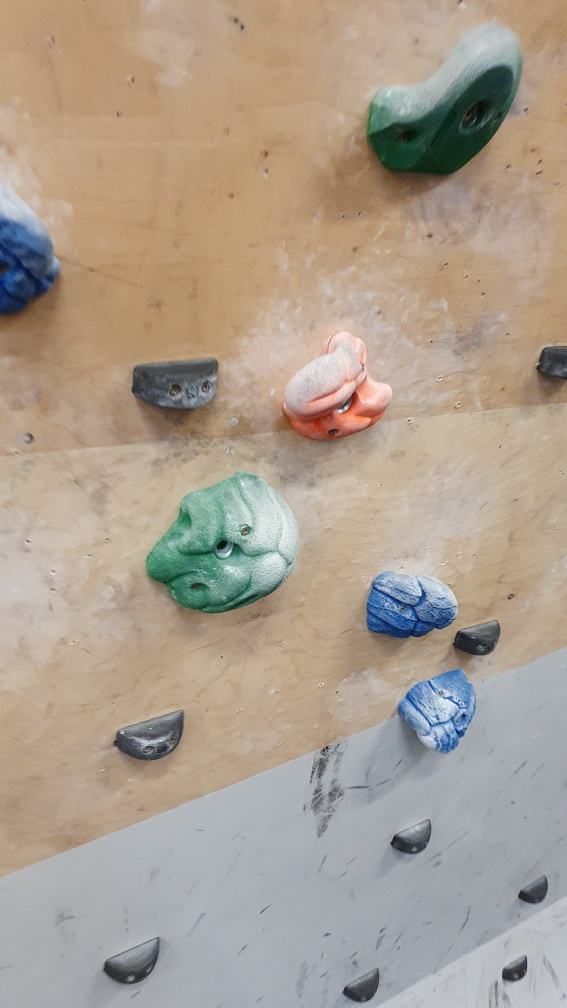Jug: (364, 17, 524, 181), (144, 472, 304, 619), (390, 668, 481, 762), (364, 567, 461, 650)
Pinch: (131, 352, 225, 417), (109, 707, 188, 765), (99, 934, 167, 985), (454, 618, 502, 657), (392, 818, 433, 861), (340, 964, 383, 1004), (535, 341, 567, 382), (516, 872, 551, 905), (499, 953, 533, 984)
